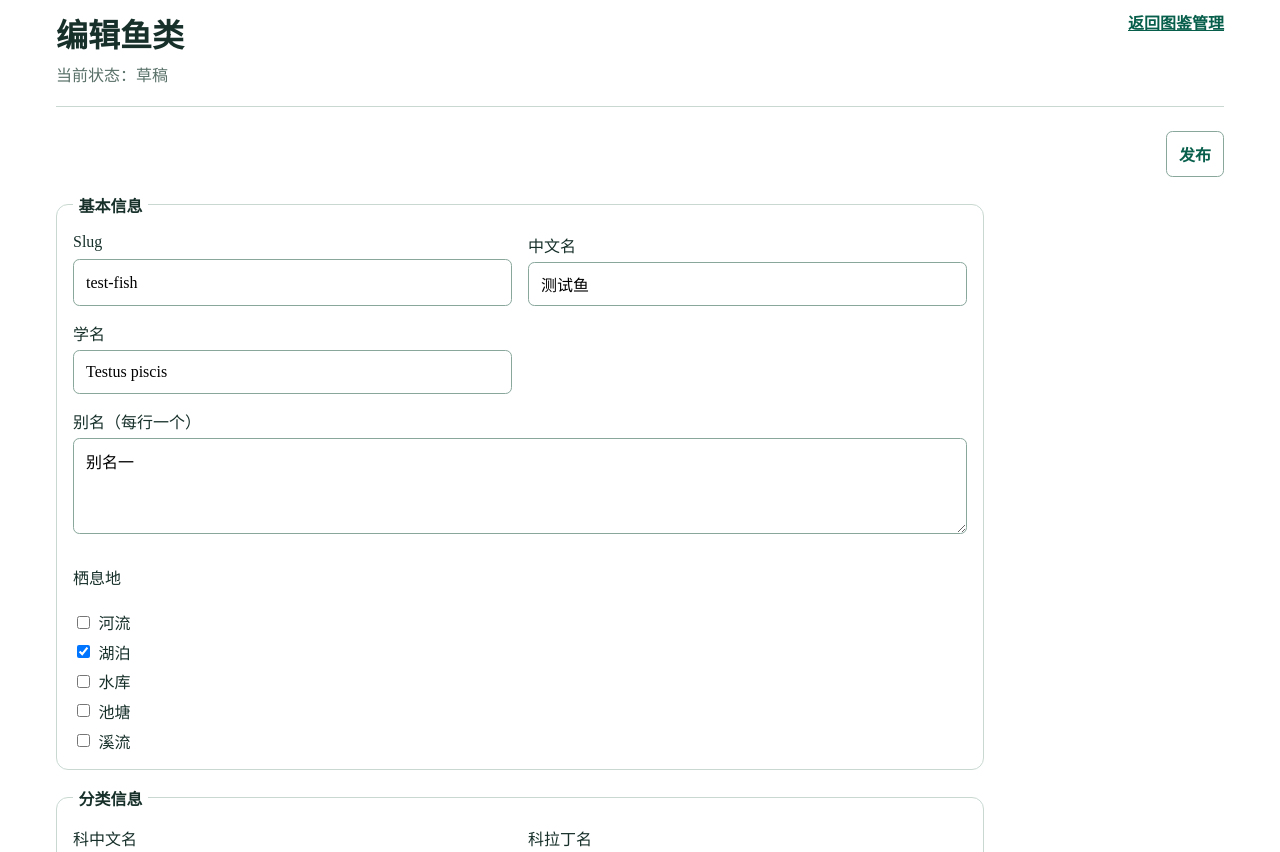
Test: a pending publication action blocks content saves without duplicate requests
What coordinates should you click on to do the following:
click the button "发布"
I would click on:
 (1195, 154)
Its box is x1=1166 y1=131 x2=1224 y2=177.
(page scrolled)
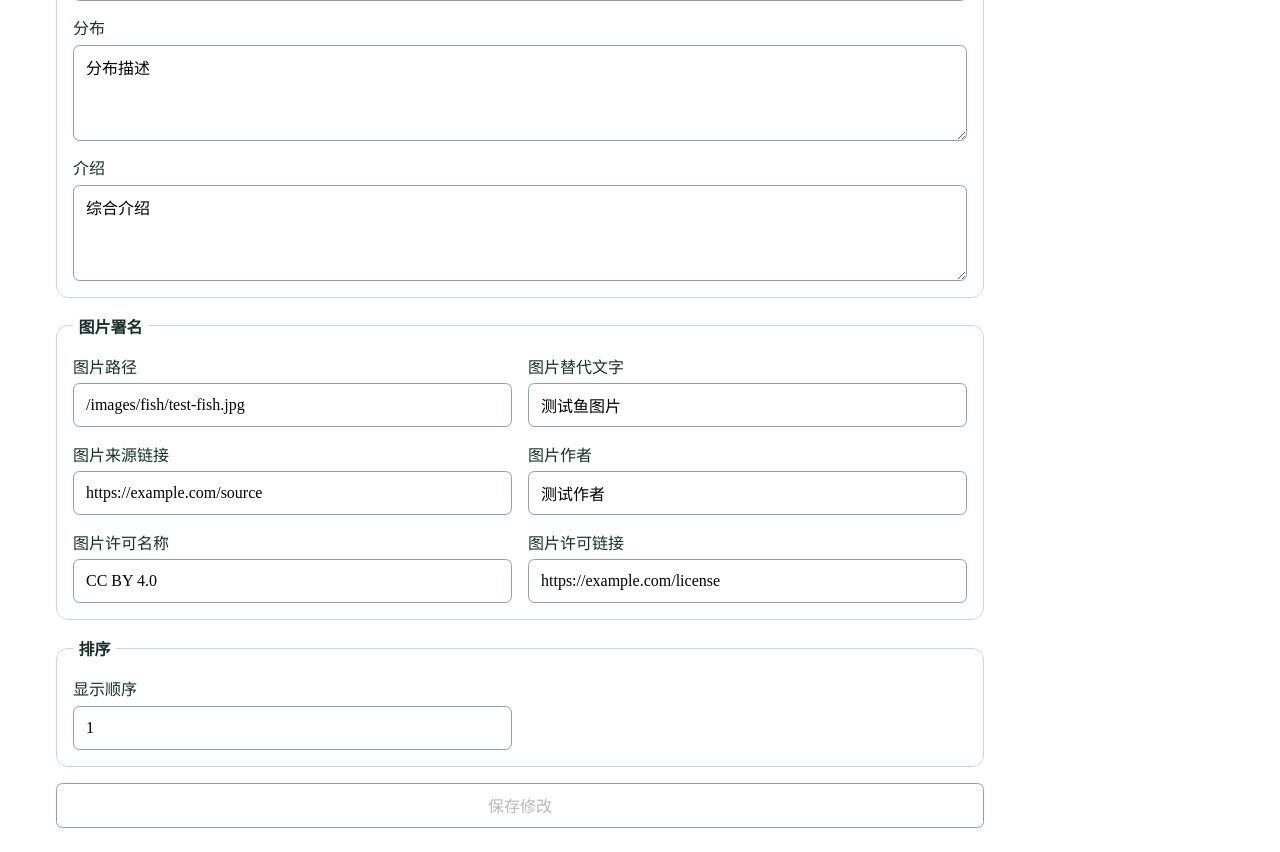
Result: the button "保存修改" is disabled
What coordinates should you click on to do the following:
click the button "保存修改"
I would click on:
 (520, 805)
Its box is x1=56 y1=783 x2=984 y2=828.
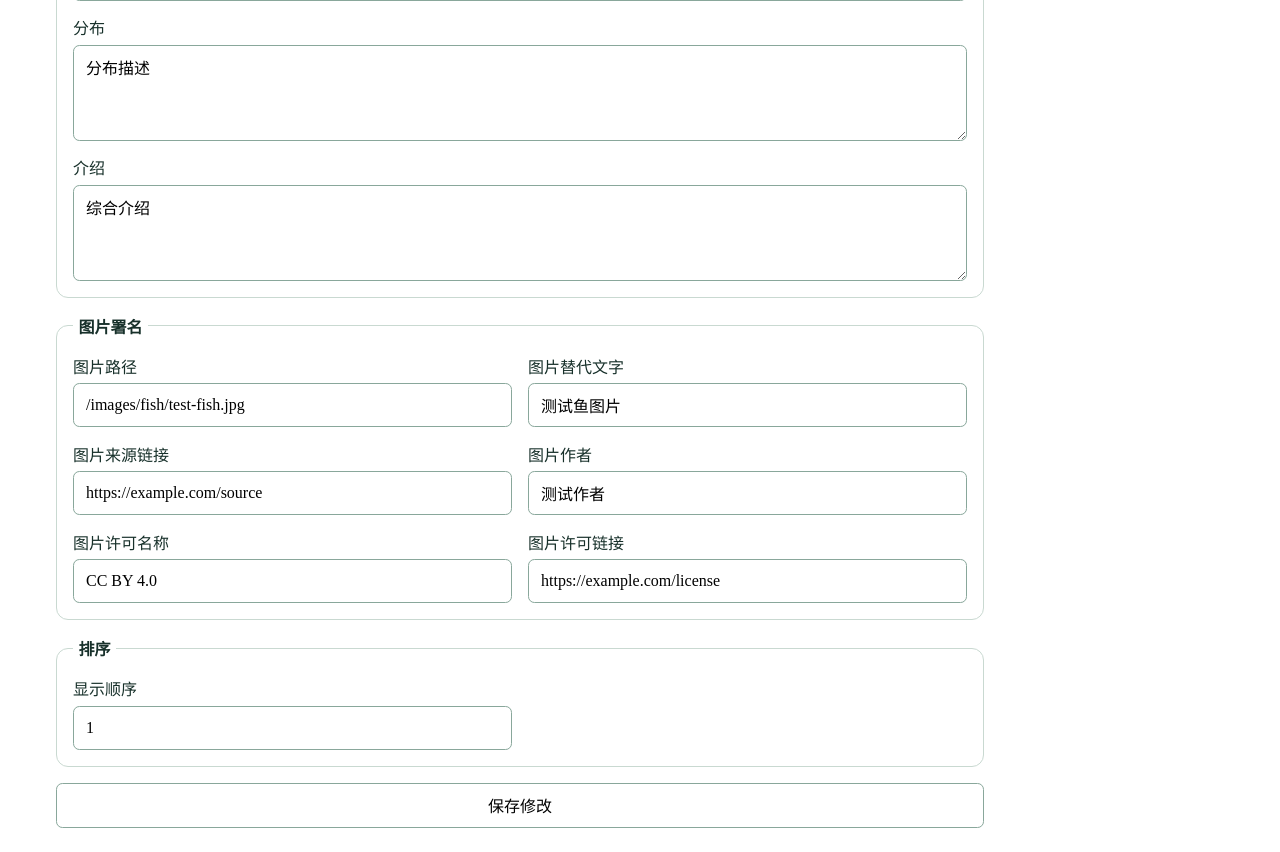
Result: the button "保存修改" is enabled at x1=56 y1=783 x2=984 y2=828
